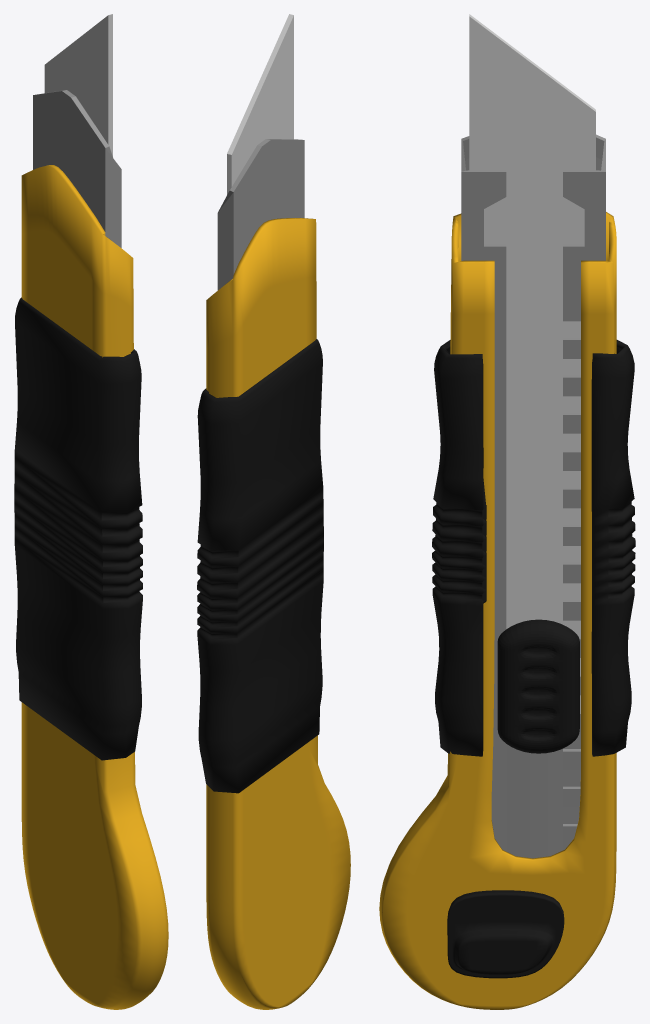
Rendered from Bisturi.fbx.
3 renders of one model, left to right at view 1: azimuth 30°, elevation 25°; view 2: azimuth 150°, elevation 25°; view 3: azimuth 270°, elevation 25°, orthographic.
Parts seen in each view (by area): view 1: CuerpoAgarre, Cuerpo, basemetalica, Navaja; view 2: CuerpoAgarre, Cuerpo, basemetalica, Navaja; view 3: Cuerpo, Navaja, CuerpoAgarre, basemetalica, Seguro, Tapita.
Part boxes in pixels (left/top/right/bottom): CuerpoAgarre: left=14, top=297, right=142, bottom=760; Cuerpo: left=21, top=165, right=168, bottom=1009; basemetalica: left=33, top=90, right=121, bottom=247; Navaja: left=44, top=14, right=112, bottom=156; CuerpoAgarre: left=197, top=339, right=323, bottom=793; Cuerpo: left=206, top=218, right=350, bottom=1009; basemetalica: left=217, top=139, right=304, bottom=290; Navaja: left=227, top=14, right=293, bottom=194; Cuerpo: left=379, top=212, right=616, bottom=1009; Navaja: left=469, top=14, right=595, bottom=711; CuerpoAgarre: left=432, top=340, right=635, bottom=756; basemetalica: left=461, top=134, right=605, bottom=858; Seguro: left=497, top=619, right=579, bottom=753; Tapita: left=447, top=890, right=564, bottom=978.
Bounding box in the file's own units: 11.28 × 193 × 45.07.
